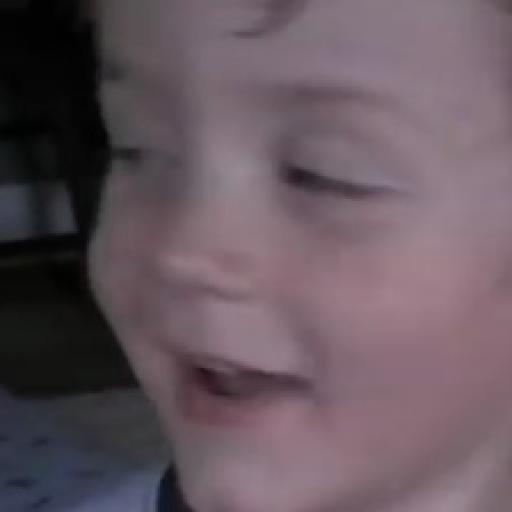Autism: (79, 0, 512, 512)
